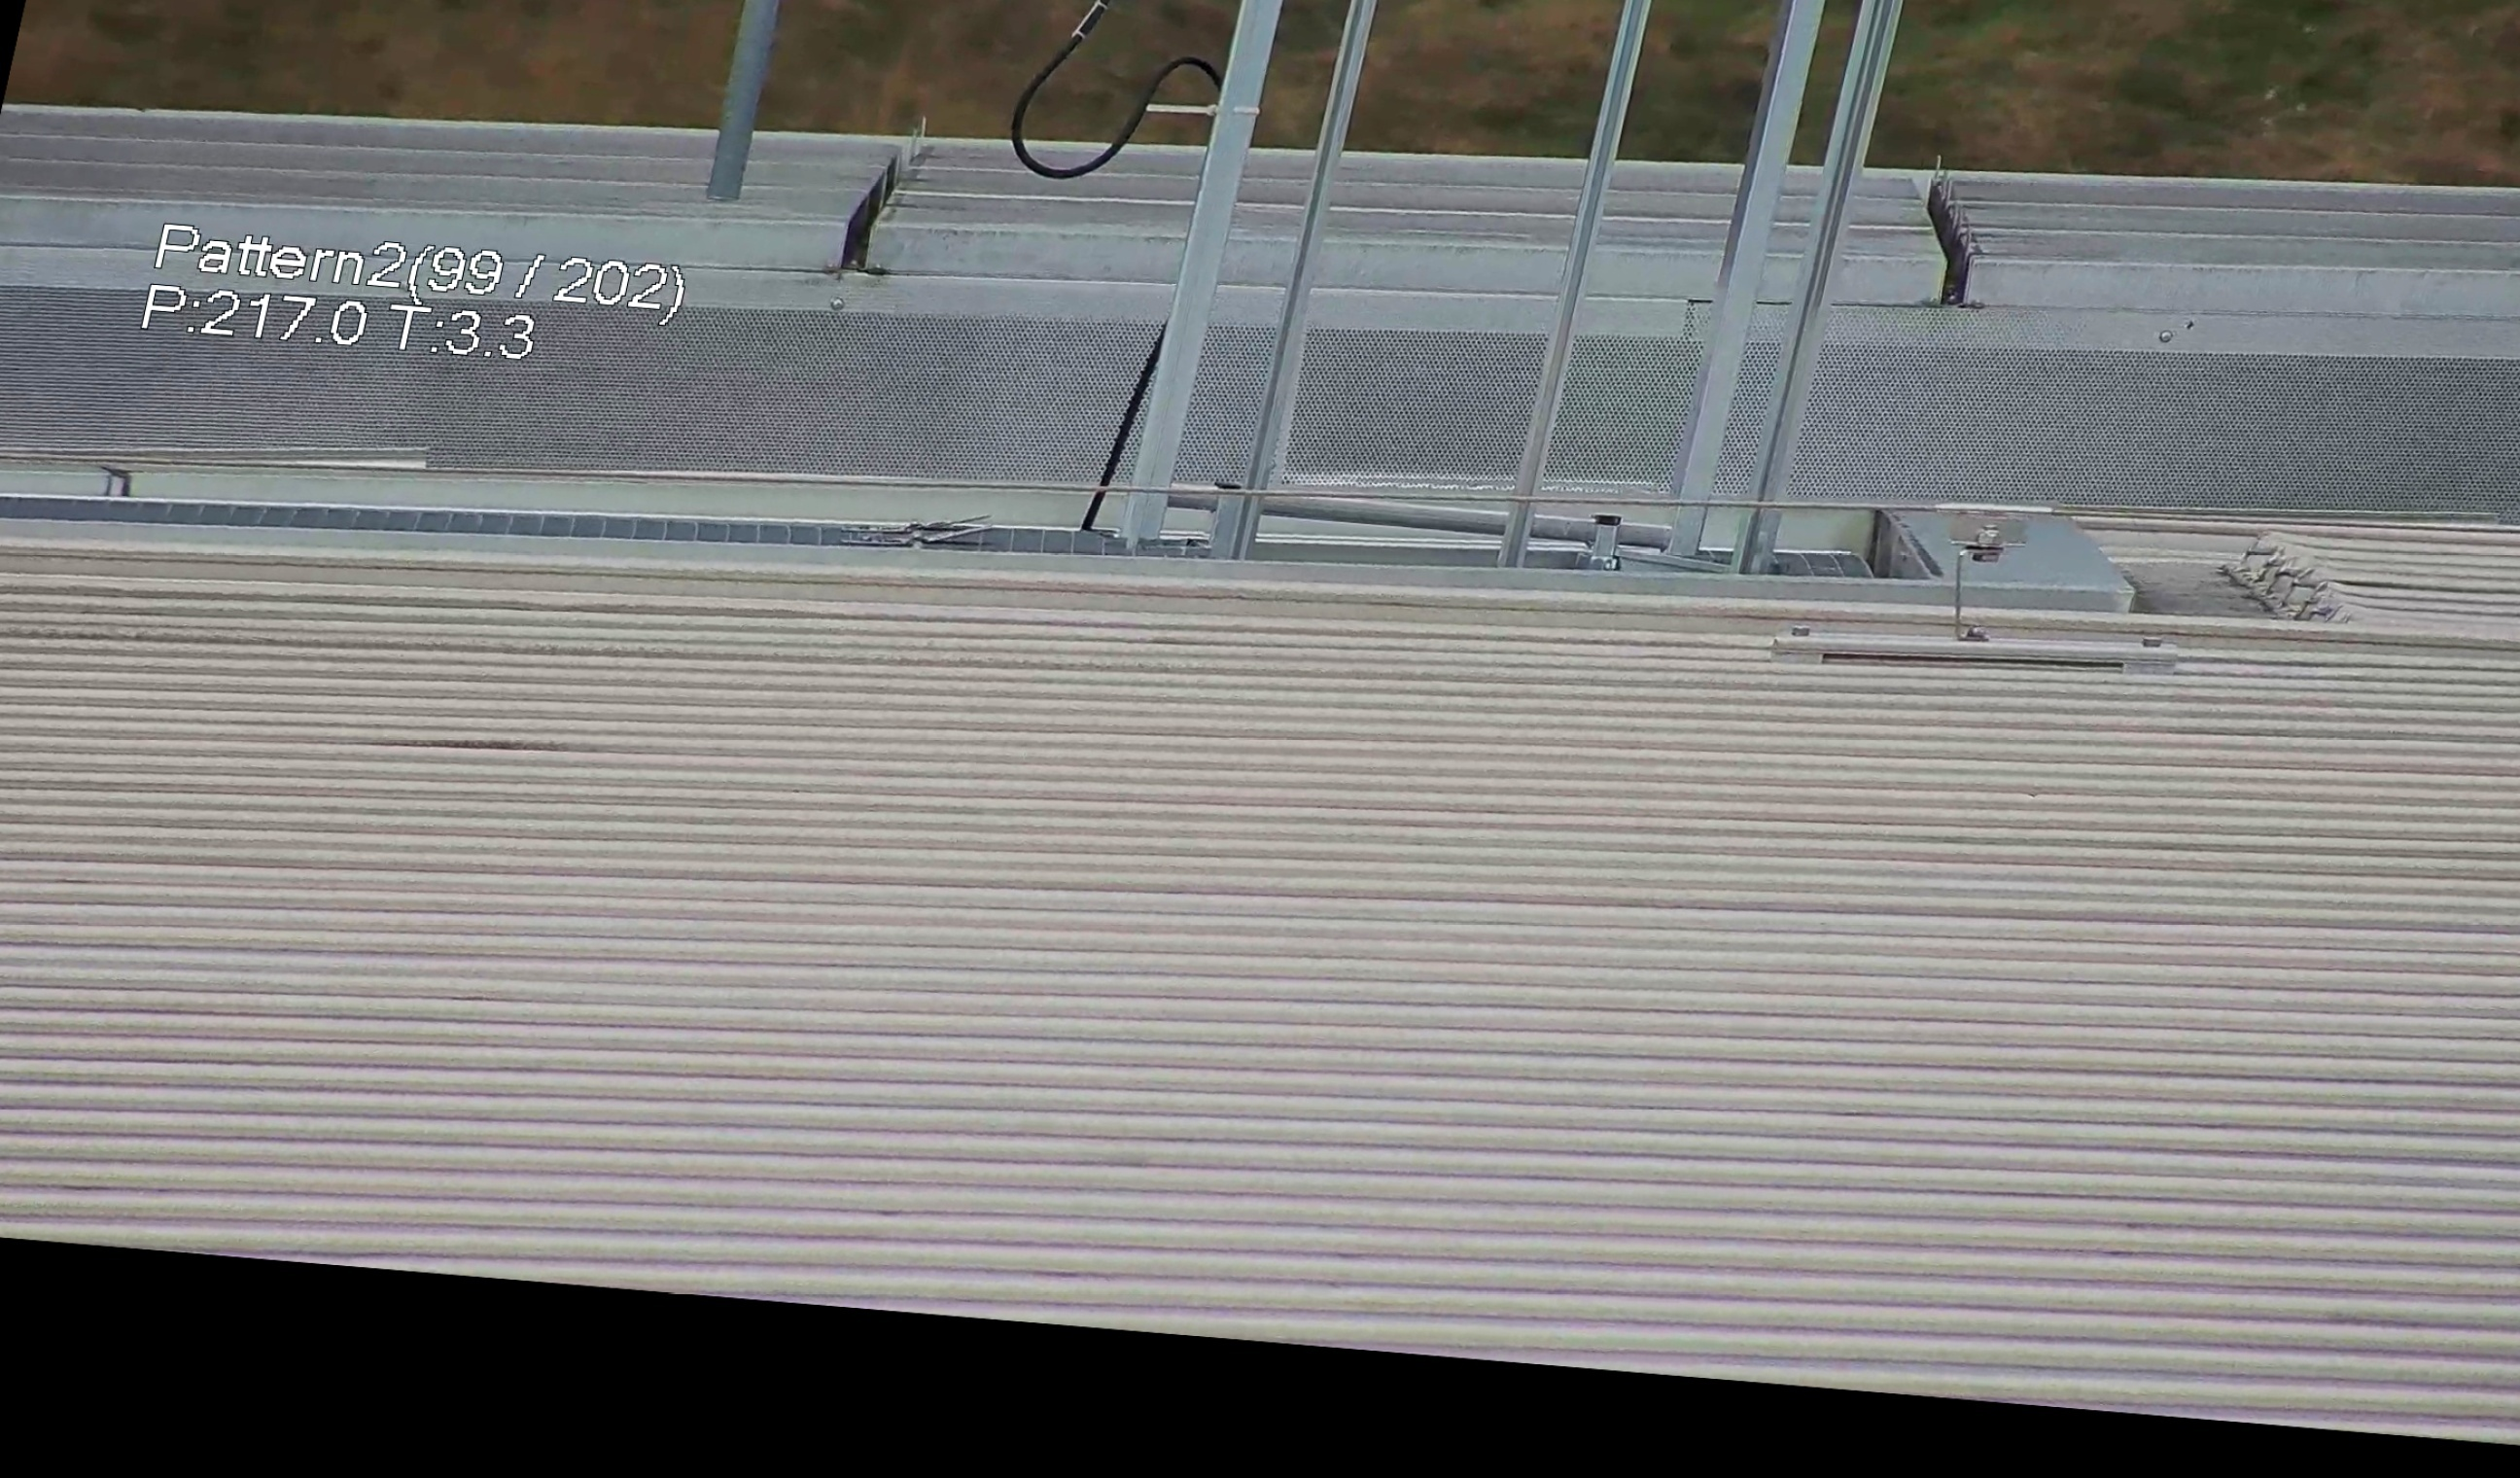Other: (1892, 157, 2024, 310)
